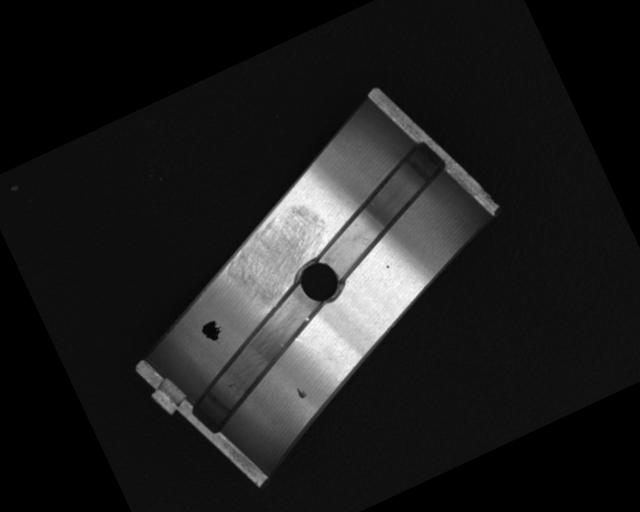blot: (199, 318, 225, 345)
bruise: (293, 384, 309, 402), (384, 263, 391, 270)
gap: (160, 277, 350, 438), (292, 133, 474, 284)
hole: (286, 250, 352, 316)
nick: (293, 328, 331, 371)
scratch: (209, 194, 347, 314)
